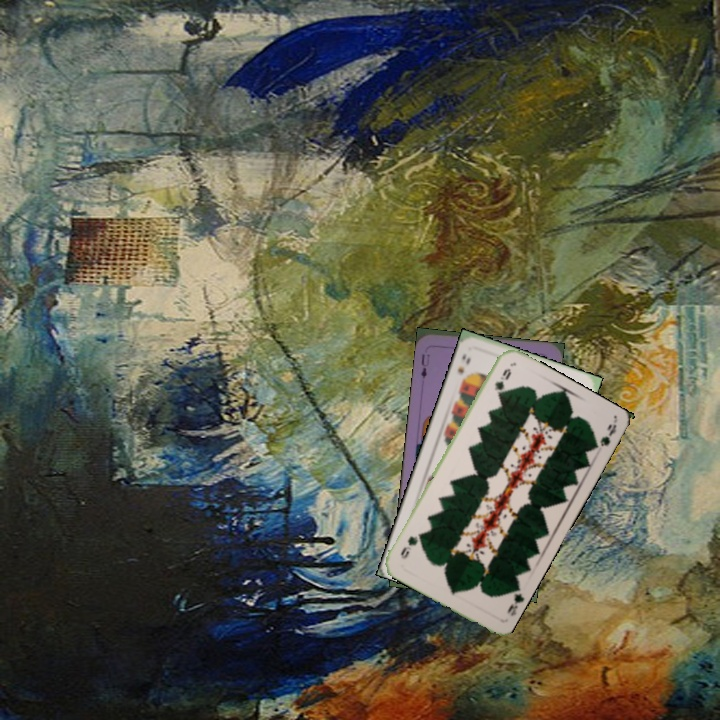EU: (417, 350, 432, 381)
G9: (503, 583, 526, 619), (490, 364, 514, 398)
S9: (453, 349, 473, 378)
